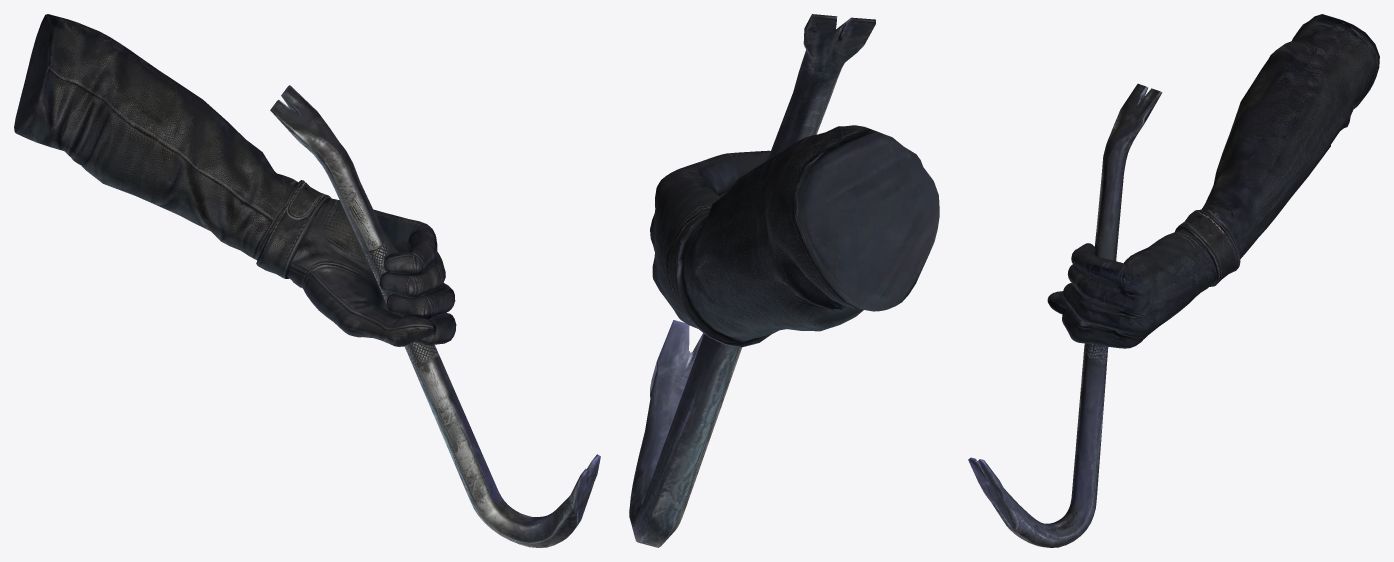
File: pry-arm.glb
3 renders of one model, left to right at view 1: azimuth 30°, elevation 25°; view 2: azimuth 150°, elevation 25°; view 3: azimuth 270°, elevation 25°, orthographic. The views are drawn at different scales.
Parts seen in each view (by area): view 1: Crowbar; view 2: Crowbar; view 3: Crowbar.
Boxes of the visible parts, x1,y1,x2,y2 form: Crowbar: (14,14,600,547); Crowbar: (629,14,939,547); Crowbar: (968,14,1379,547).
Bounding box in the file's own units: 0.5683 × 0.683 × 0.6335.
1 material, 1 textured.
